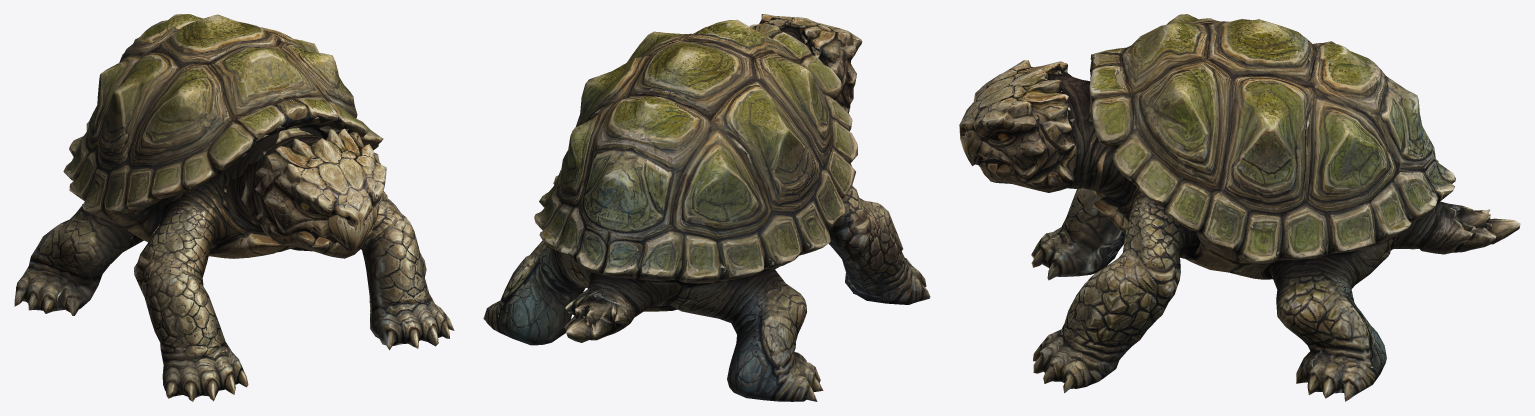
Rendered from BabyTurtle.glb.
3 views of the same model, side by side, from view 1: azimuth 30°, elevation 25°; view 2: azimuth 150°, elevation 25°; view 3: azimuth 270°, elevation 25° (orthographic). The views are drawn at different scales.
Parts seen in each view (by area): view 1: texture_mapping; view 2: texture_mapping; view 3: texture_mapping.
Boxes of the visible parts, x1,y1,x2,y2 form: texture_mapping: (14, 14, 454, 401); texture_mapping: (483, 14, 930, 401); texture_mapping: (959, 14, 1520, 401).
Size of the model in its own units: 0.7054 by 0.5739 by 0.9858.
Materials: 1 (1 with a texture image).
